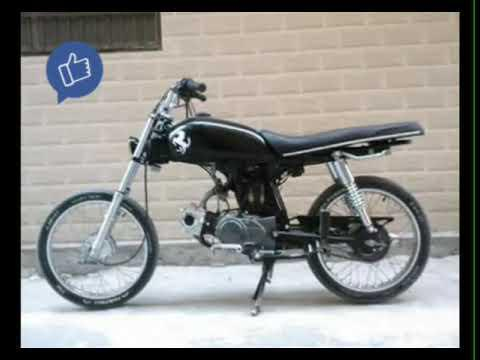bike: (17, 78, 459, 316)
